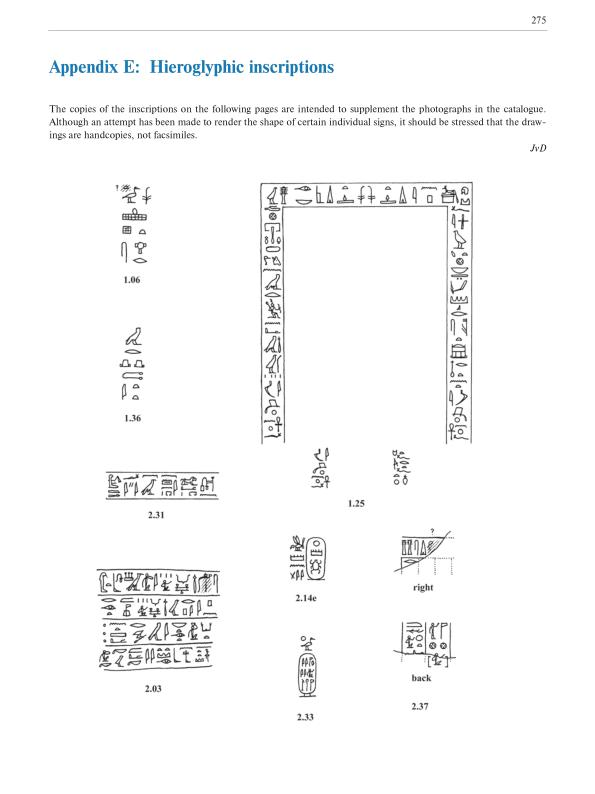circle: (298, 518, 336, 596), (294, 630, 325, 706)
